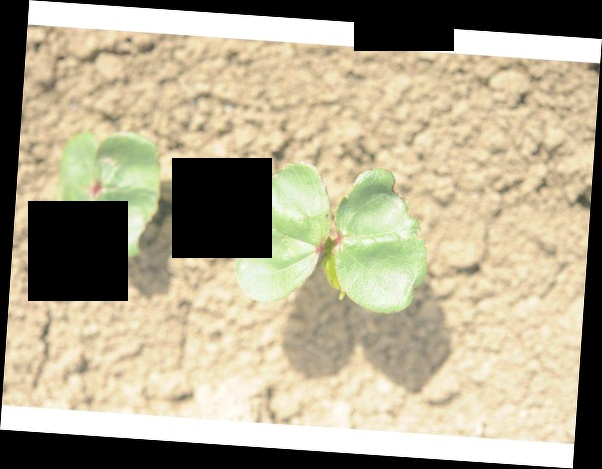cotton: (238, 162, 431, 308), (56, 130, 161, 258)
